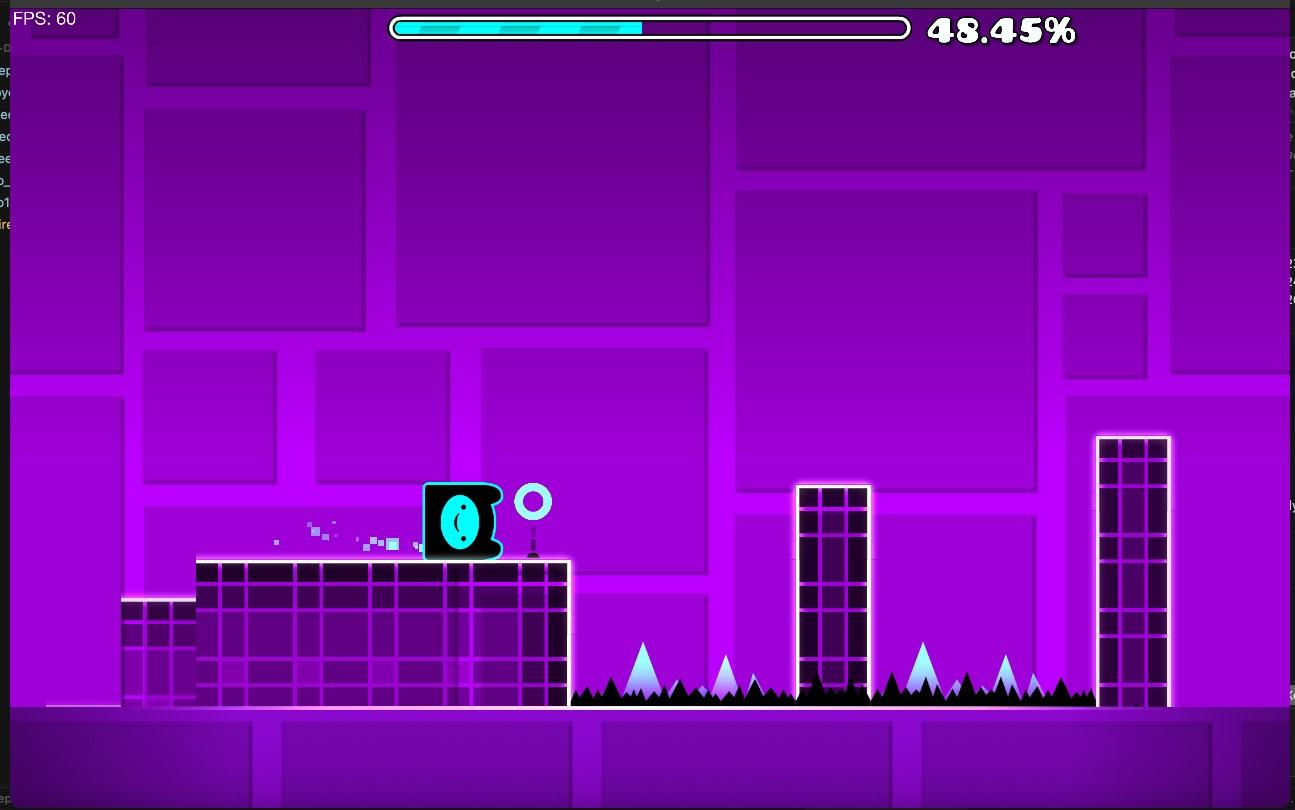platform: (197, 560, 572, 705), (1099, 434, 1171, 707), (800, 486, 874, 709)
player: (423, 482, 502, 559)
spike: (899, 645, 1056, 702), (623, 643, 662, 696), (709, 656, 737, 696), (671, 681, 681, 693)
